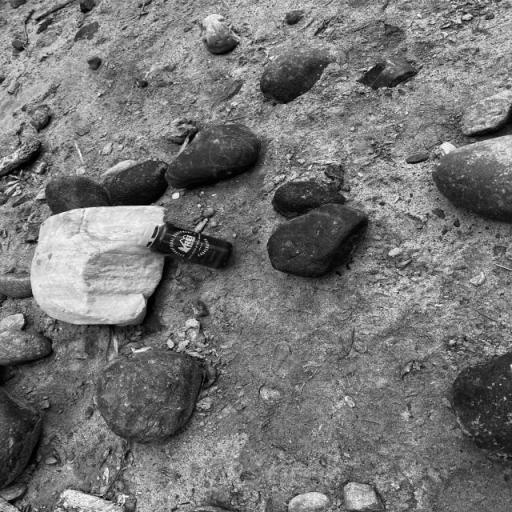bottle: (136, 222, 234, 272)
